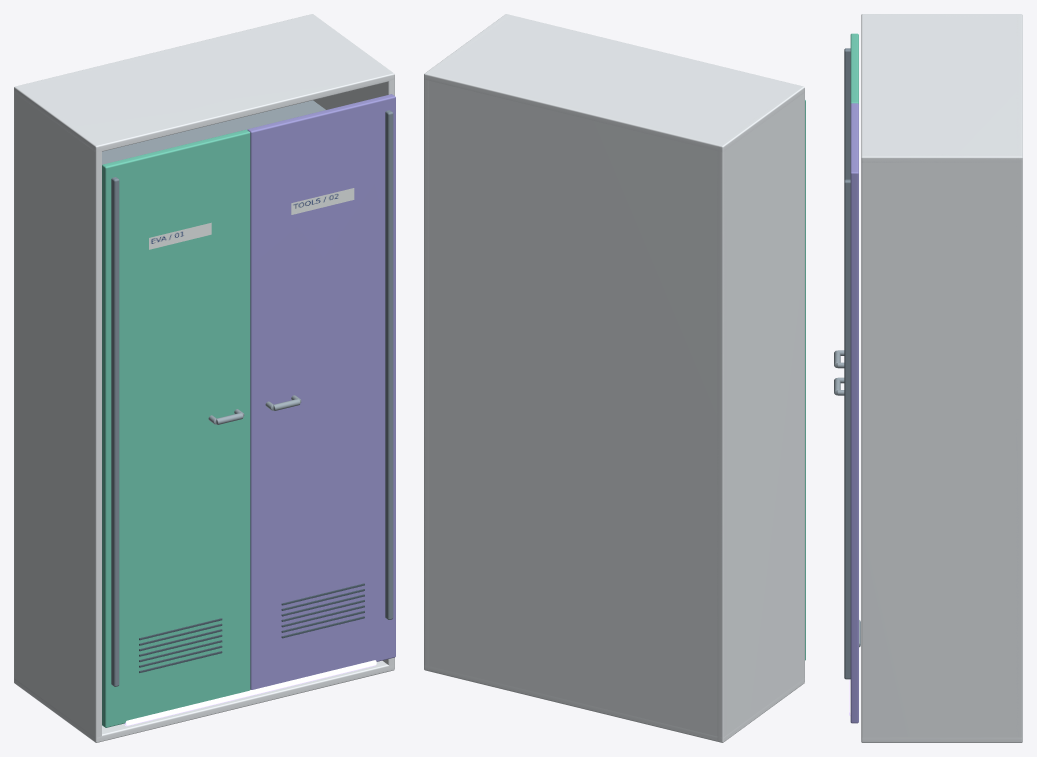
Rendered from equipment_locker.glb.
3 renders of one model, left to right at view 1: azimuth 30°, elevation 25°; view 2: azimuth 150°, elevation 25°; view 3: azimuth 270°, elevation 25°, orthographic.
Visible parts, largest first — view 1: Locker_Door-1_Panel, Locker_Door1_Panel, Locker_Left, Locker_Top, Locker_Outer_Trim, Locker_Outer_Trim_2, Locker_Bottom, Shelf1.73, Locker_Underglow, Locker_Right, Locker_Tag1, Locker_Tag-1; view 2: Locker_Rear, Locker_Left, Locker_Top, Locker_Right, Locker_Bottom; view 3: Locker_Right, Locker_Top, Locker_Door1_Panel, Locker_Outer_Trim_2, Locker_Rear, Locker_Bottom, Locker_Outer_Trim, Locker_Door-1_Panel.
Boxes of the visible parts, x1=… form: Locker_Door-1_Panel: x1=102, y1=129, x2=250, y2=727; Locker_Door1_Panel: x1=247, y1=94, x2=395, y2=689; Locker_Left: x1=14, y1=86, x2=101, y2=742; Locker_Top: x1=14, y1=14, x2=394, y2=152; Locker_Outer_Trim: x1=111, y1=177, x2=119, y2=686; Locker_Outer_Trim_2: x1=385, y1=110, x2=393, y2=619; Locker_Bottom: x1=14, y1=660, x2=394, y2=742; Shelf1.73: x1=102, y1=100, x2=325, y2=164; Locker_Underglow: x1=124, y1=660, x2=376, y2=726; Locker_Right: x1=310, y1=14, x2=394, y2=670; Locker_Tag1: x1=291, y1=188, x2=354, y2=214; Locker_Tag-1: x1=149, y1=222, x2=211, y2=249; Locker_Rear: x1=424, y1=73, x2=726, y2=740; Locker_Left: x1=717, y1=86, x2=804, y2=742; Locker_Top: x1=424, y1=14, x2=804, y2=152; Locker_Right: x1=424, y1=16, x2=508, y2=671; Locker_Bottom: x1=424, y1=665, x2=804, y2=742; Locker_Right: x1=861, y1=154, x2=1022, y2=741; Locker_Top: x1=861, y1=14, x2=1022, y2=162; Locker_Door1_Panel: x1=850, y1=103, x2=858, y2=723; Locker_Outer_Trim_2: x1=844, y1=179, x2=850, y2=679; Locker_Rear: x1=1016, y1=14, x2=1021, y2=742; Locker_Bottom: x1=861, y1=737, x2=1022, y2=742; Locker_Outer_Trim: x1=844, y1=48, x2=850, y2=179; Locker_Door-1_Panel: x1=850, y1=33, x2=858, y2=103.
Bounding box in the file's own units: 1.05 × 2 × 0.584.
9 materials, 2 textured.
